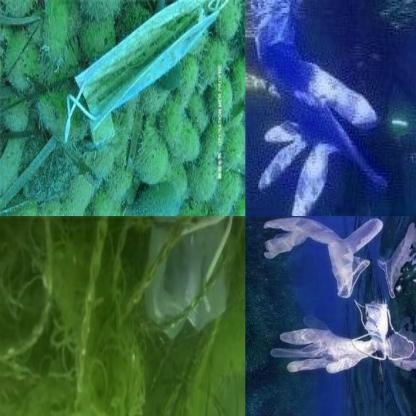Mask: (55, 1, 244, 153), (144, 216, 245, 336), (348, 301, 388, 362)
glove: (247, 24, 392, 215), (262, 217, 377, 299), (266, 311, 380, 374)
